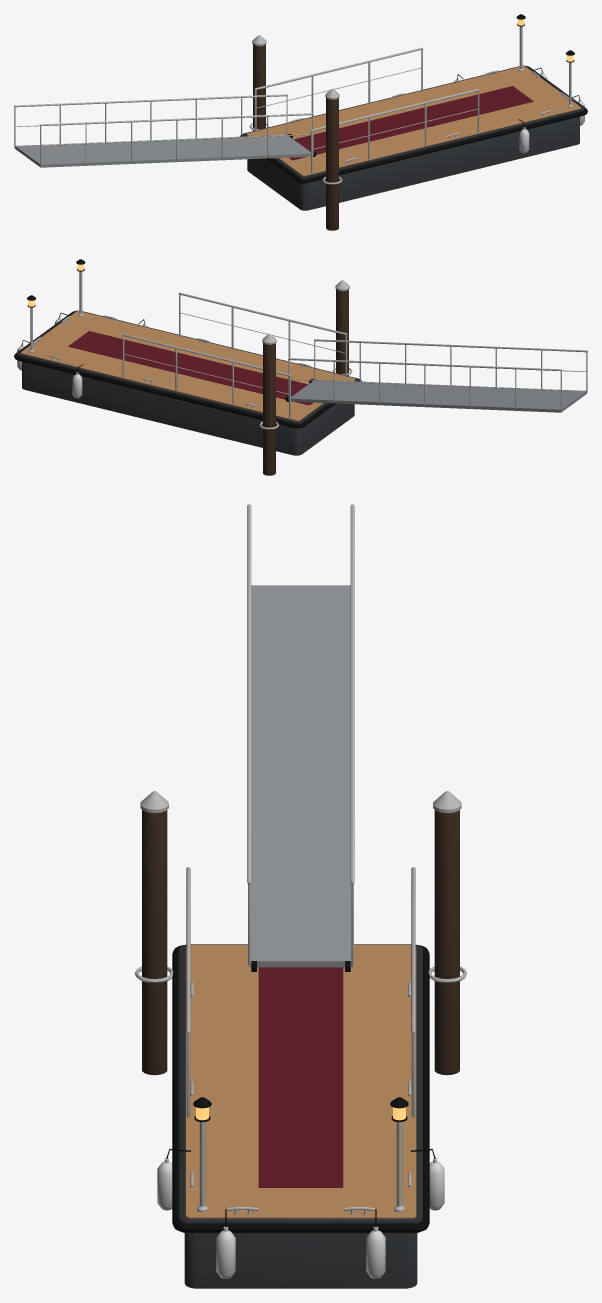
File: boot_steg.glb
3 renders of one model, top to bottom at view 1: azimuth 30°, elevation 25°; view 2: azimuth 150°, elevation 25°; view 3: azimuth 270°, elevation 25°, orthographic. The views are drawn at different scales.
Parts seen in each view (by area): view 1: Steg; view 2: Steg; view 3: Steg.
Boxes of the visible parts, x1,y1,x2,y2 form: Steg: (14,14,587,230); Steg: (14,259,587,475); Steg: (135,504,466,1288).
Bounding box in the file's own units: 13.26 × 3.57 × 3.54.
